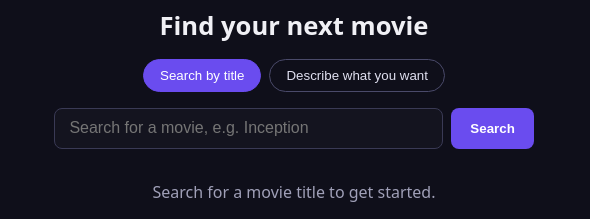
Test: Home – AI search › marks the active mode with aria-pressed
Click the button "Describe what you want" at (357, 76), box [270,59,445,92]
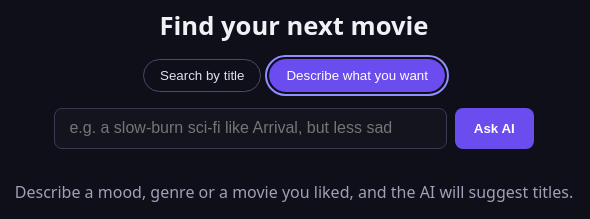
expect the button "Ask AI" is shown: met, box [455,108,534,149]
